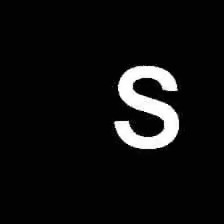LTR_S: (110, 57, 183, 154)
